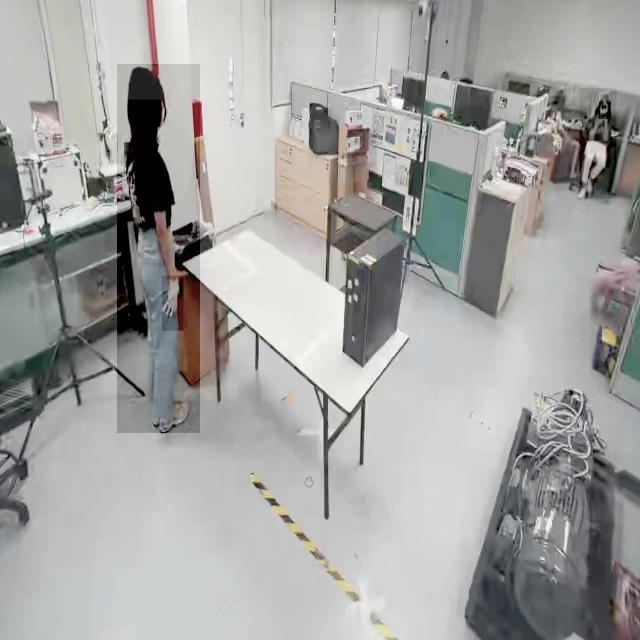face_mask: (599, 102, 611, 119)
hand_glove: (162, 276, 184, 332)
head_nohelmet: (128, 66, 166, 100), (599, 92, 611, 102)
person: (117, 64, 201, 434), (579, 88, 617, 200)
shoes: (156, 391, 192, 438)
